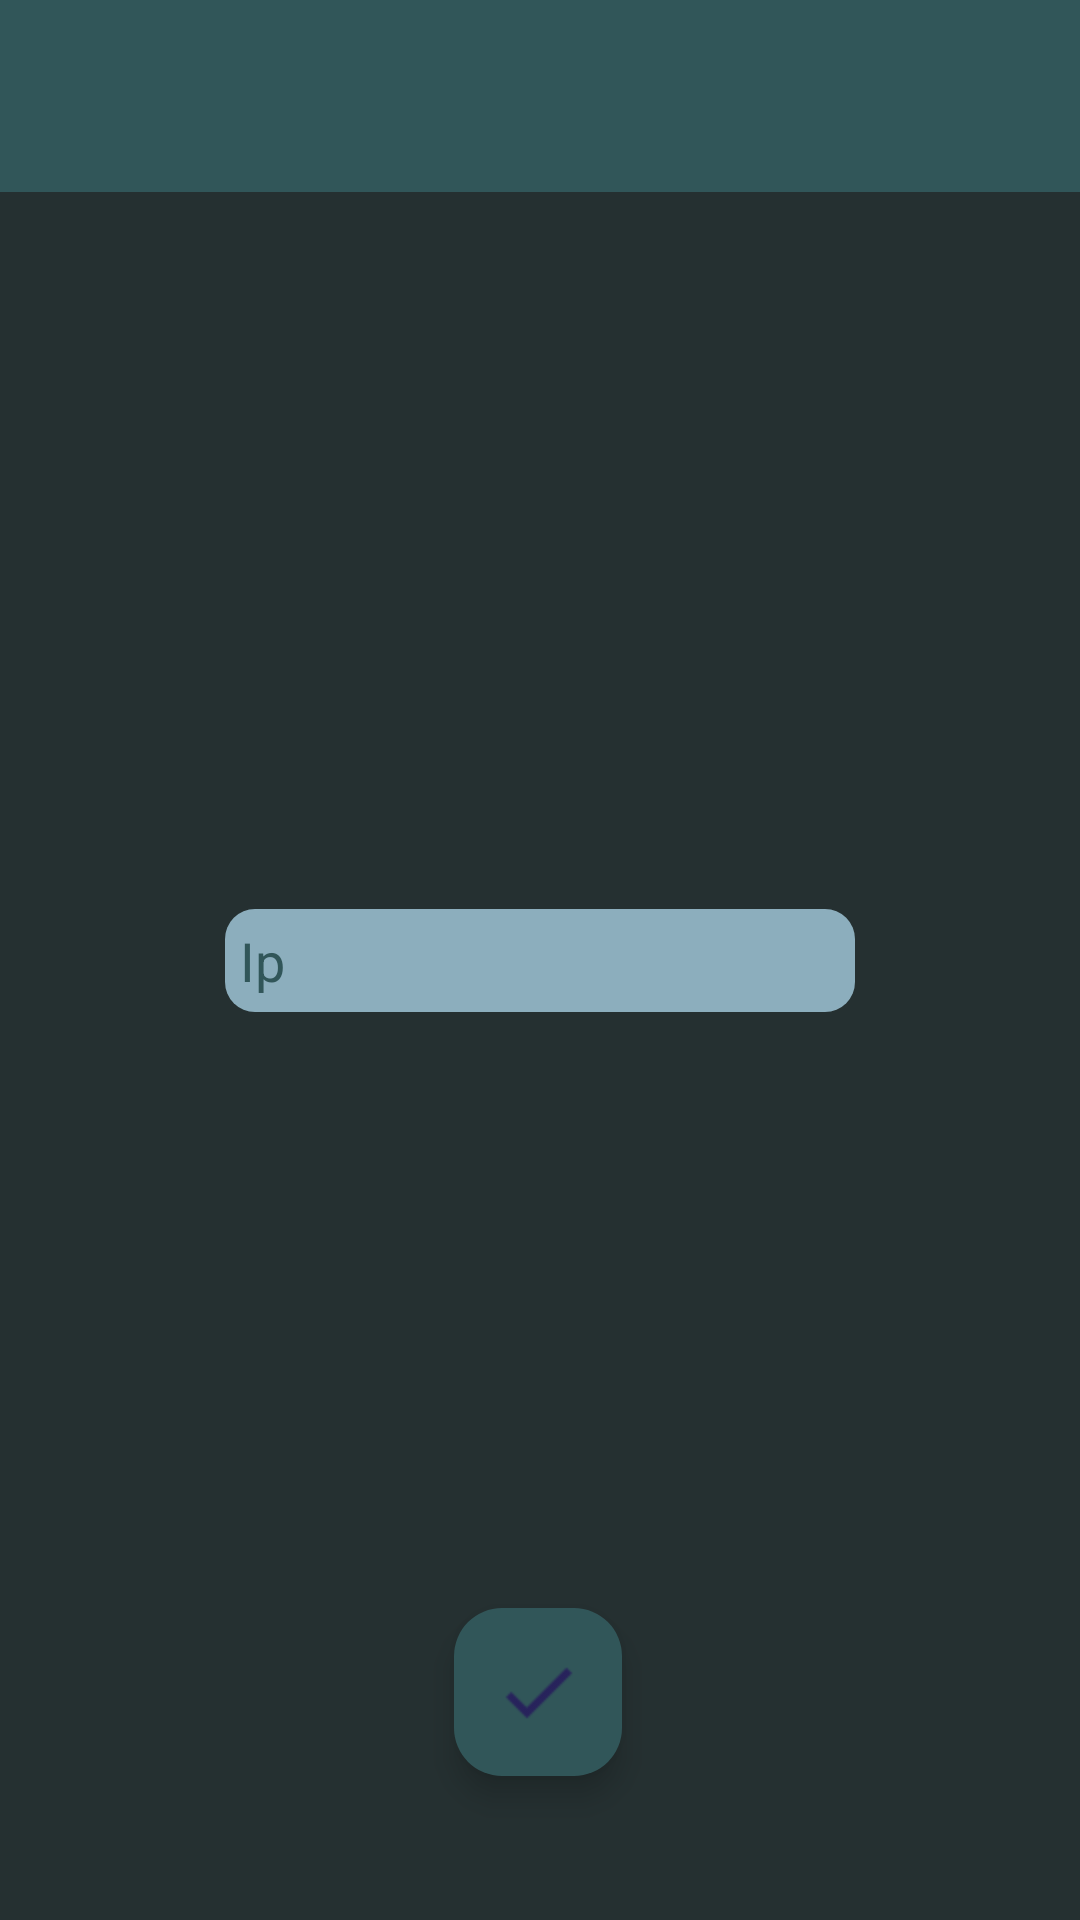

Where icons sit on this 1080px x 1920px app screen, as BBox(x1, y1, x2, y2):
check: BBox(454, 1608, 622, 1776)
